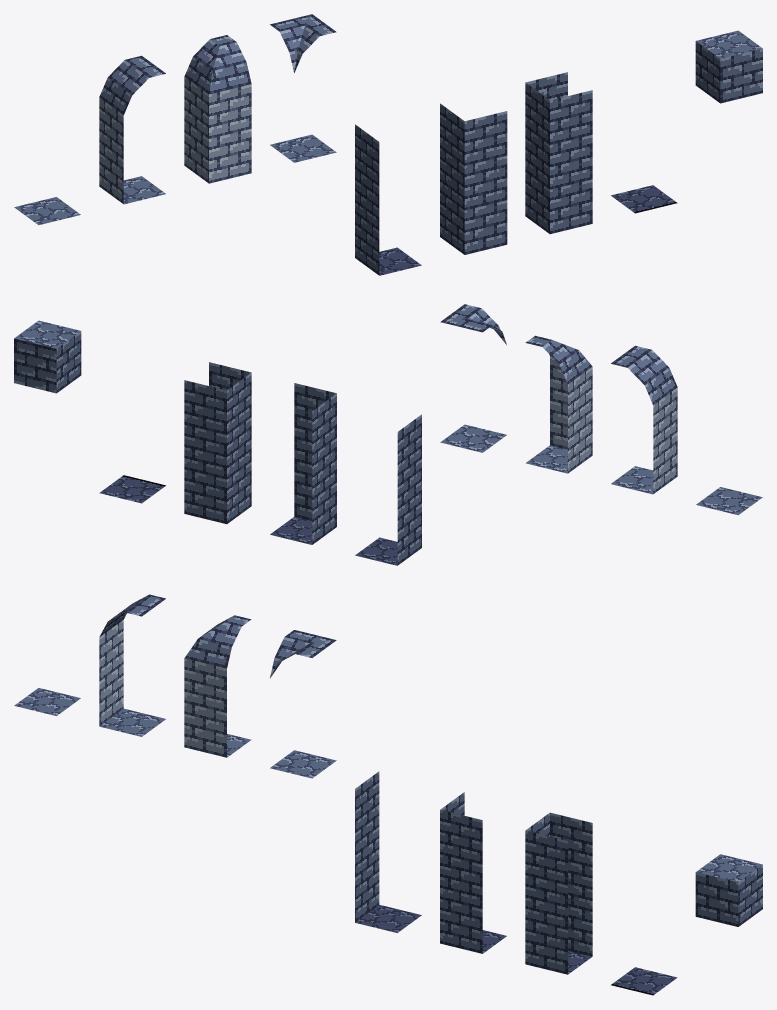
The model's file is Walls-Tiles.glb.
3 renders of one model, top to bottom at view 1: azimuth 30°, elevation 25°; view 2: azimuth 150°, elevation 25°; view 3: azimuth 330°, elevation 25°, orthographic.
Parts seen in each view (by area): view 1: Hole-U-Cornor-col, Hole-Cornor-col, Wall-Cornor-col, Wall-Side-col, Hole-Side-col., platform-col, Wall-Outer-col., Hole-Ground-col, Ground-col; view 2: Hole-U-Cornor-col, Hole-Cornor-col, Wall-Cornor-col, Wall-Side-col, Hole-Side-col., platform-col, Wall-Outer-col., Hole-Ground-col, Ground-col; view 3: Hole-U-Cornor-col, Hole-Cornor-col, Wall-Cornor-col, Hole-Side-col., platform-col, Wall-Side-col, Wall-Outer-col., Hole-Ground-col, Ground-col.
Boxes of the visible parts, x1,y1,x2,y2 form: Hole-U-Cornor-col: [525, 72, 592, 234]; Hole-Cornor-col: [440, 103, 507, 254]; Wall-Cornor-col: [184, 35, 251, 183]; Wall-Side-col: [99, 55, 165, 204]; Hole-Side-col.: [355, 124, 421, 275]; platform-col: [695, 30, 762, 103]; Wall-Outer-col.: [270, 14, 336, 162]; Hole-Ground-col: [611, 185, 677, 213]; Ground-col: [14, 197, 80, 225]; Hole-U-Cornor-col: [184, 362, 251, 524]; Hole-Cornor-col: [270, 383, 336, 544]; Wall-Cornor-col: [525, 335, 592, 473]; Wall-Side-col: [611, 345, 677, 494]; Hole-Side-col.: [355, 414, 421, 565]; platform-col: [14, 320, 81, 393]; Wall-Outer-col.: [440, 304, 506, 452]; Hole-Ground-col: [99, 475, 165, 503]; Ground-col: [696, 487, 762, 515]; Hole-U-Cornor-col: [525, 812, 592, 974]; Hole-Cornor-col: [440, 792, 506, 953]; Wall-Cornor-col: [184, 615, 251, 757]; Hole-Side-col.: [355, 771, 421, 932]; platform-col: [695, 854, 762, 926]; Wall-Side-col: [99, 594, 165, 736]; Wall-Outer-col.: [270, 630, 336, 778]; Hole-Ground-col: [611, 967, 677, 995]; Ground-col: [14, 688, 80, 715].
Size of the model in its own units: 17 by 5.7 by 1.
1 material, 1 textured.
